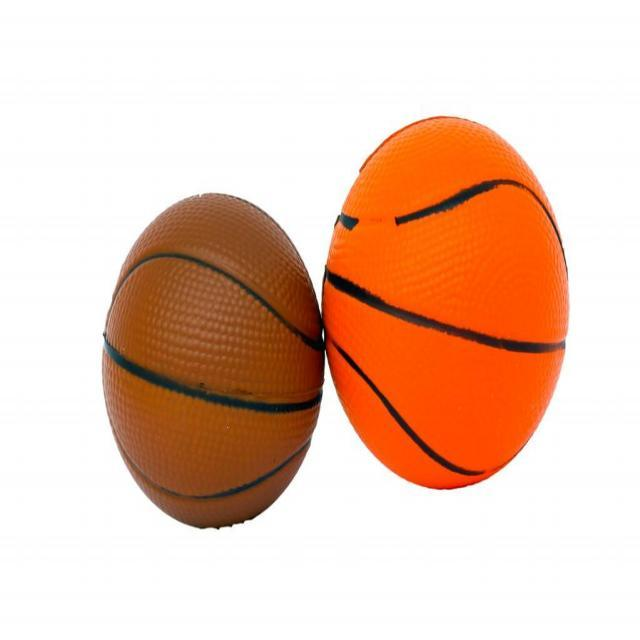rim: (317, 107, 571, 491), (104, 188, 324, 530)
